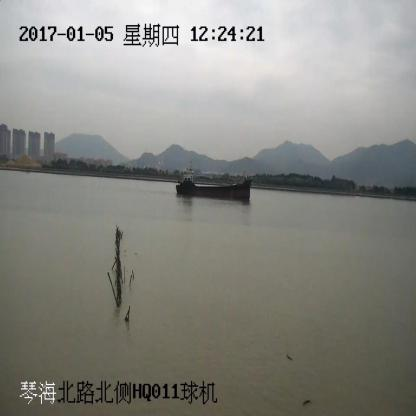Bulk Carrier: (176, 169, 252, 200)
